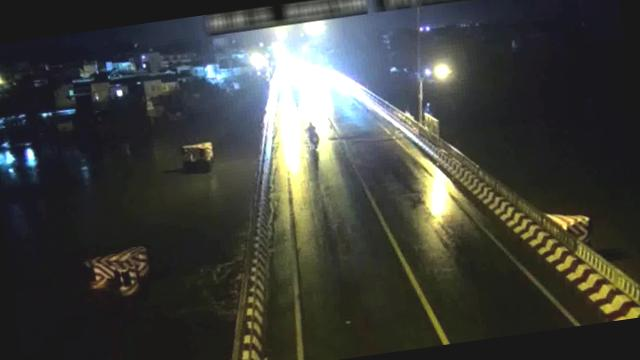Bike: (302, 116, 321, 150)
